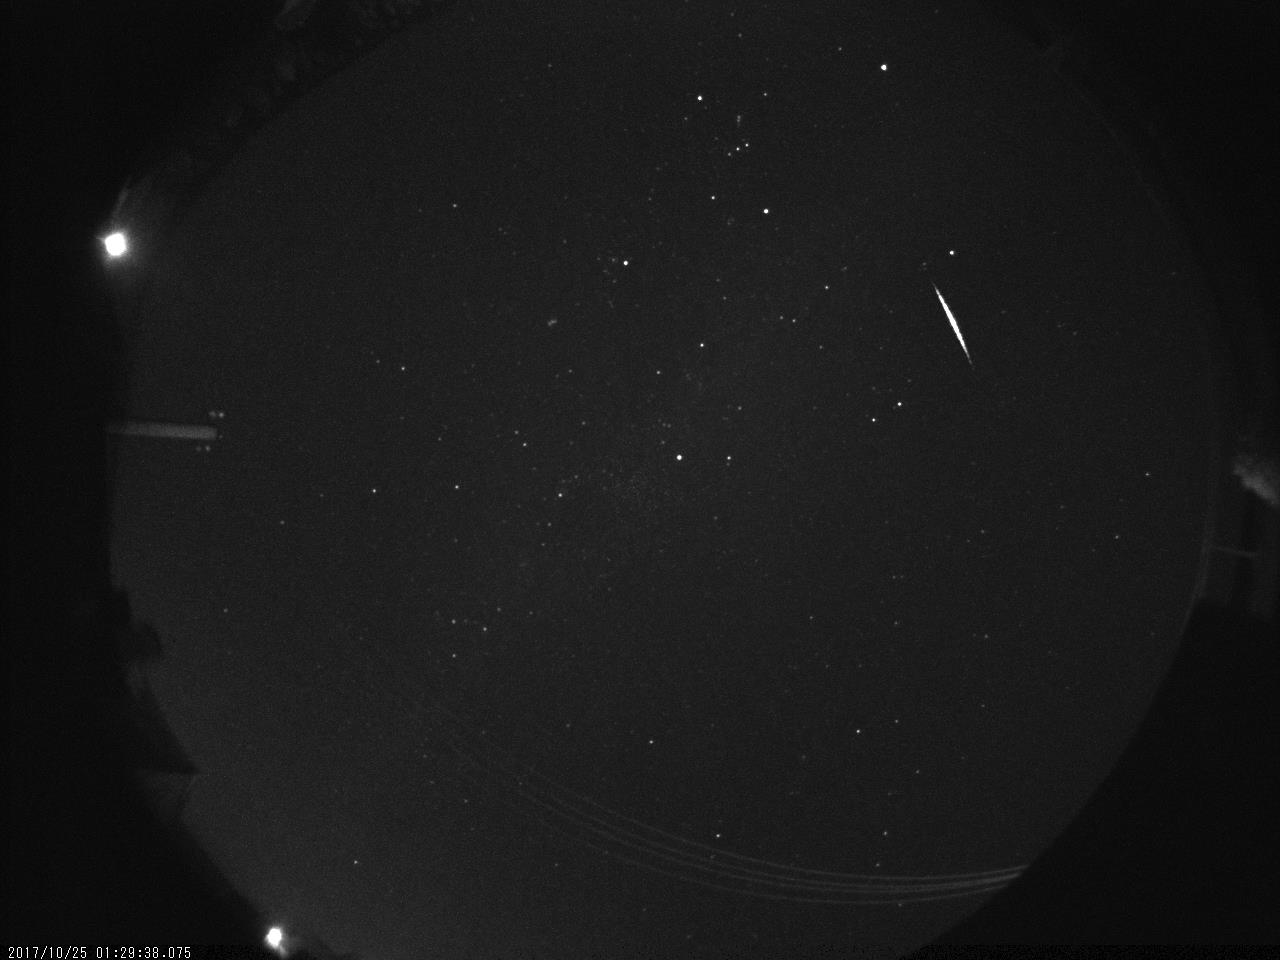meteor: (923, 278, 986, 372)
